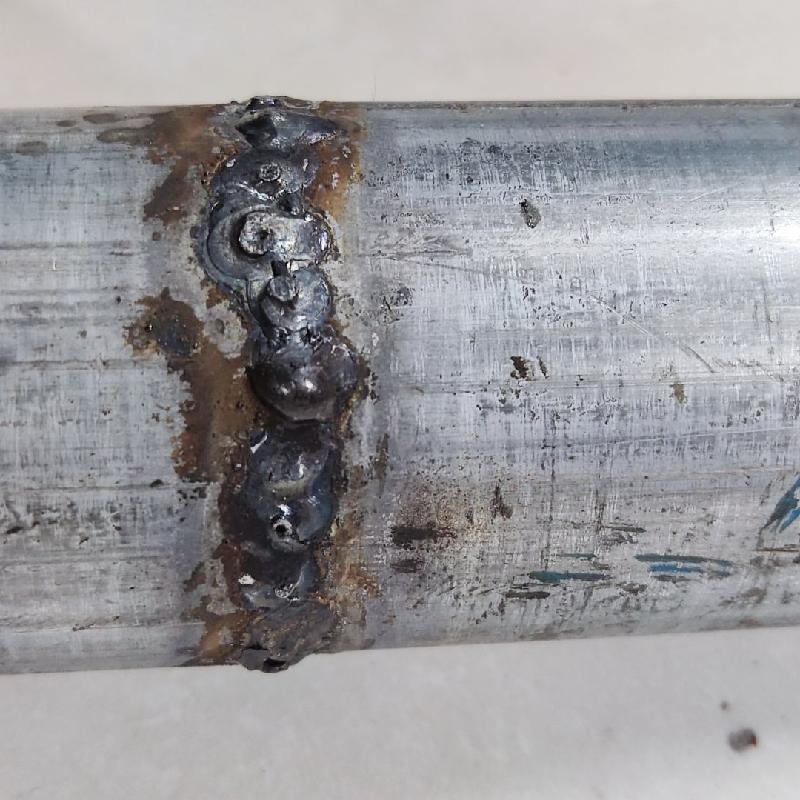Surface_pores: (241, 641, 316, 679), (258, 500, 306, 555), (241, 216, 283, 256)
Weld: (244, 341, 358, 425)
wrong_size: (212, 88, 347, 335), (228, 433, 354, 676)
